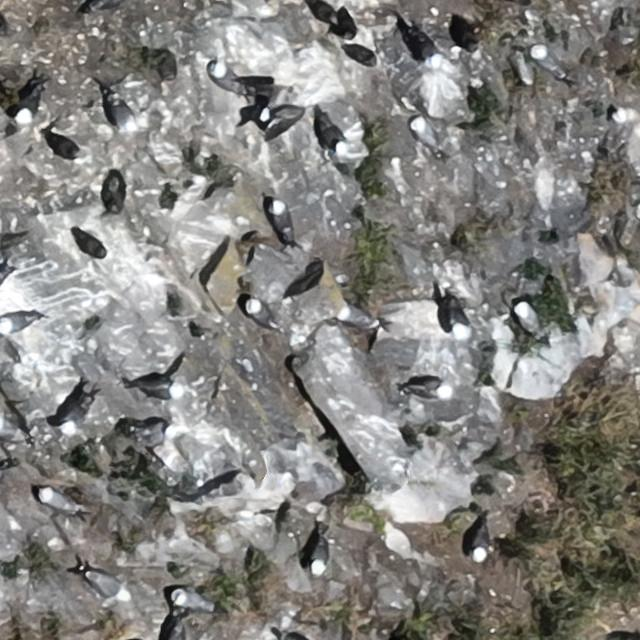umineko: (129, 418, 178, 454), (409, 117, 446, 162), (57, 394, 95, 436), (209, 59, 248, 99), (410, 25, 443, 68), (319, 111, 349, 156), (602, 107, 626, 155), (86, 573, 125, 597), (203, 477, 247, 498), (135, 378, 181, 397), (533, 46, 564, 74), (76, 232, 106, 258), (49, 135, 81, 159), (111, 101, 135, 132), (41, 490, 74, 512), (407, 378, 447, 396), (339, 307, 373, 328), (515, 303, 538, 333), (17, 90, 39, 121), (271, 204, 290, 239), (249, 301, 274, 327), (448, 302, 466, 334), (472, 528, 489, 561), (176, 592, 207, 610), (311, 540, 327, 572), (517, 55, 534, 84), (2, 313, 30, 330)
